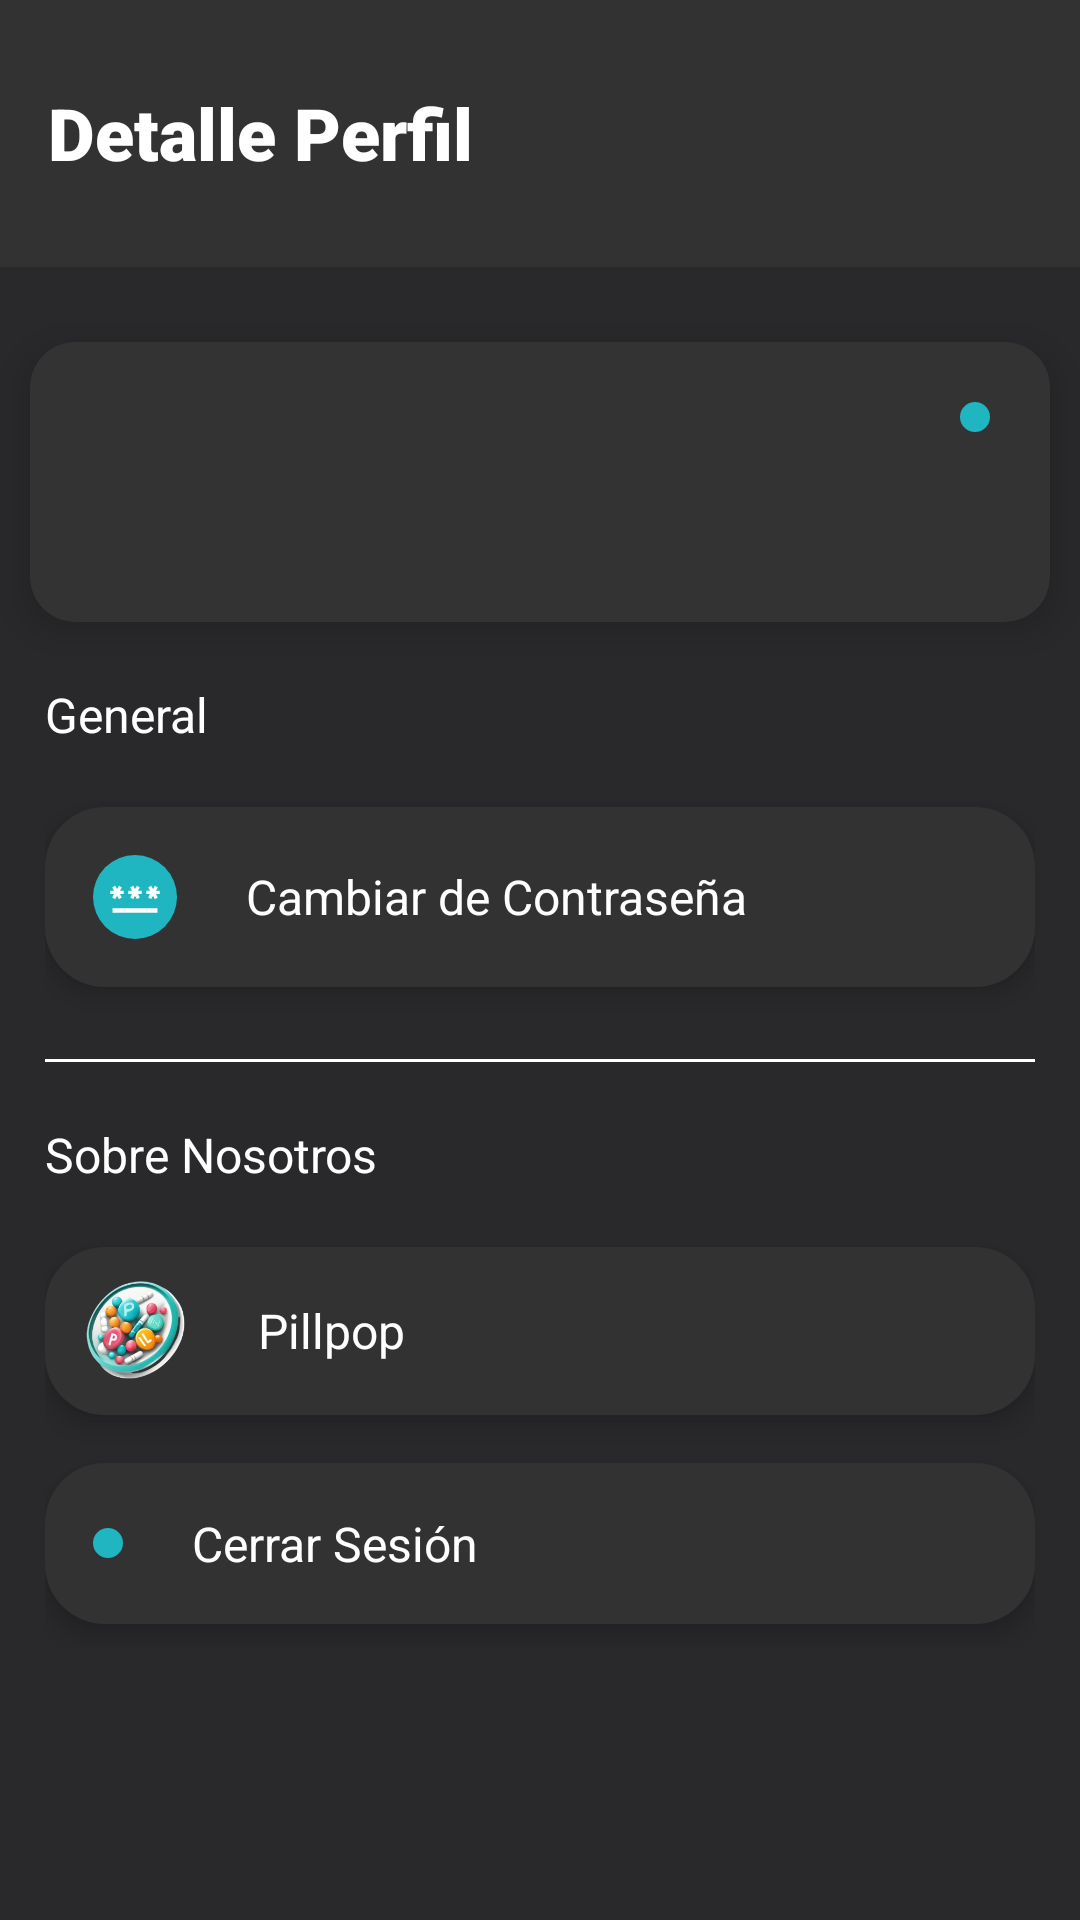

Screen size 1080x1920. Icon name, then its center in pixels as [x,y]:
password: [135,897]
